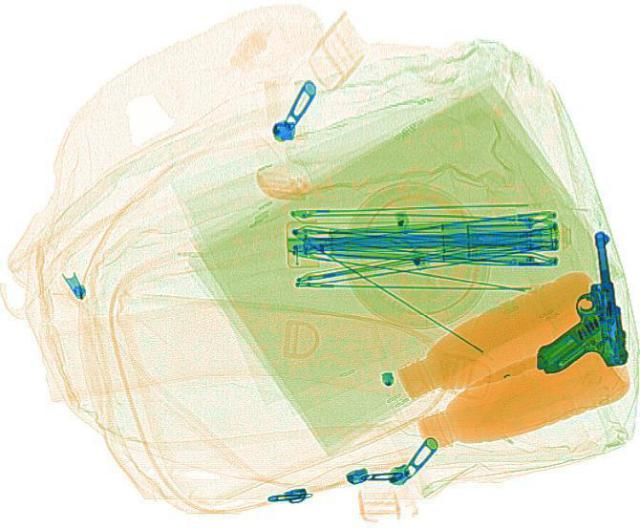Gun: (514, 229, 630, 373)
